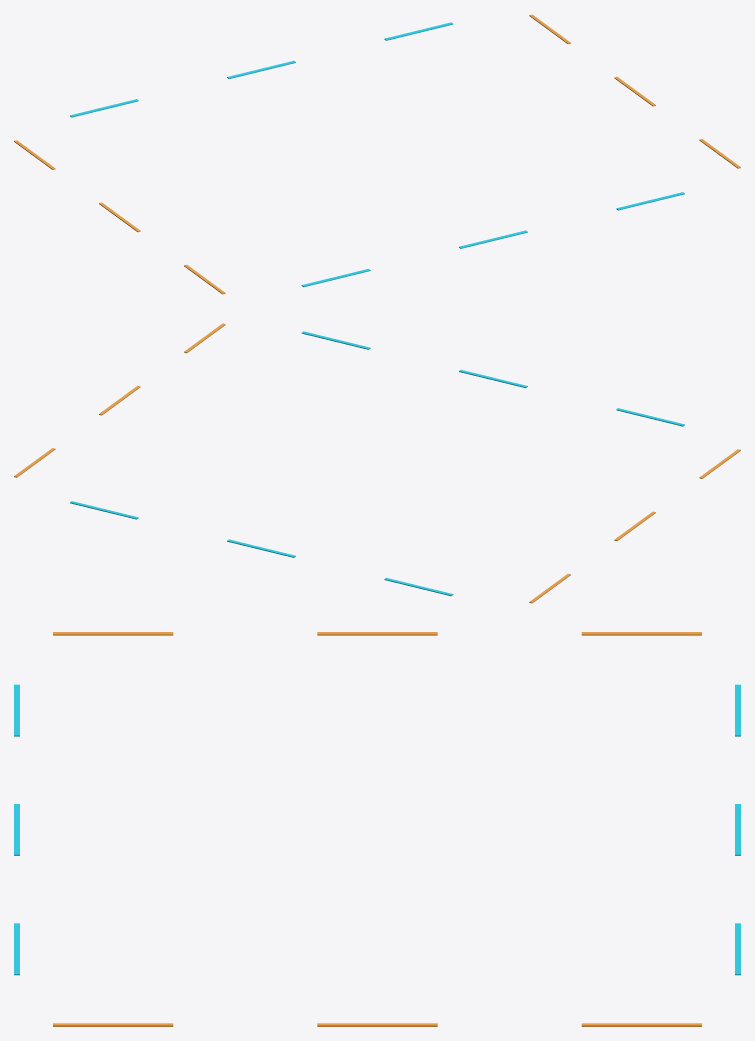
The model's file is 10_PS_Studio_CeilingLinearLighting.fbx.
3 renders of one model, top to bottom at view 1: azimuth 30°, elevation 25°; view 2: azimuth 150°, elevation 25°; view 3: azimuth 270°, elevation 25°, orthographic. The views are drawn at different scales.
Parts seen in each view (by area): view 1: PS_Studio_CeilingLinearLighting; view 2: PS_Studio_CeilingLinearLighting; view 3: PS_Studio_CeilingLinearLighting.
Part boxes in pixels (x1,y1,x2,y2): PS_Studio_CeilingLinearLighting: (14, 14, 740, 294); PS_Studio_CeilingLinearLighting: (14, 323, 740, 603); PS_Studio_CeilingLinearLighting: (14, 632, 740, 1026).
Bounding box in the file's own units: 1549 × 3.5 × 1210.
